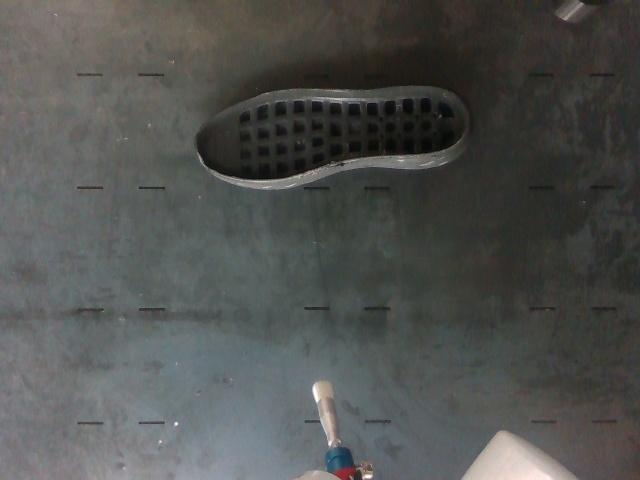shoes: (198, 86, 467, 182)
